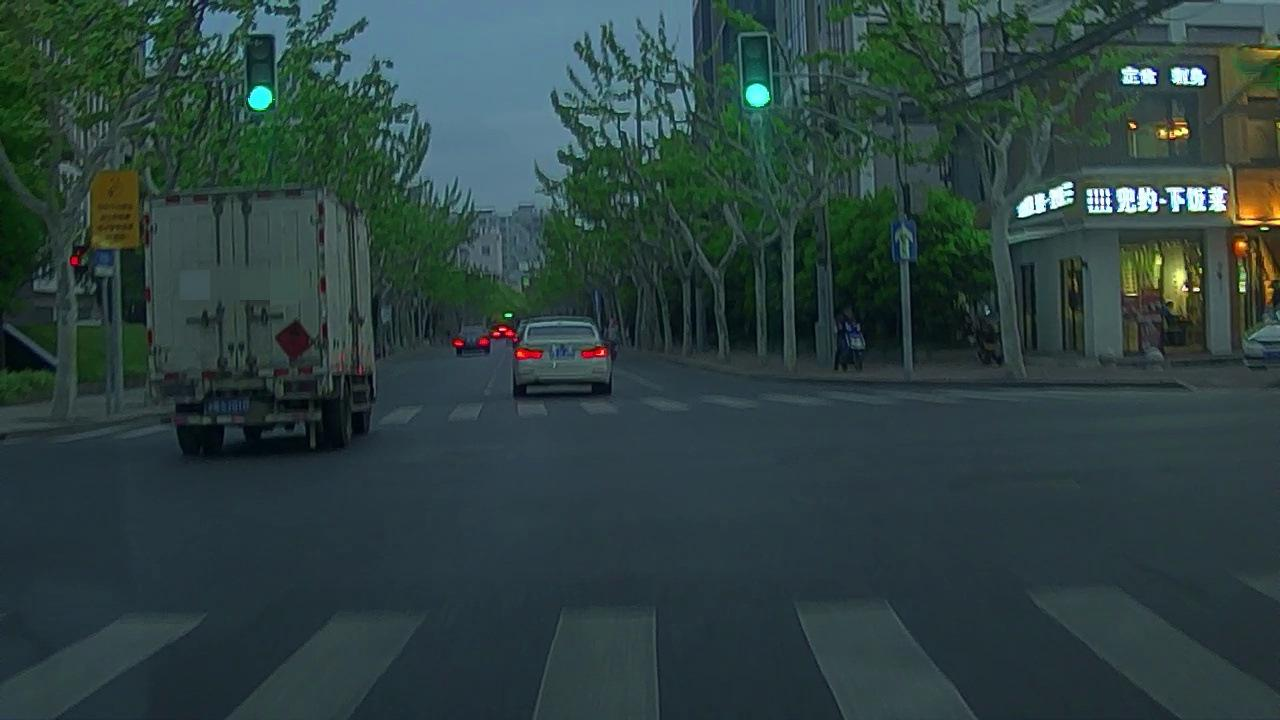traffic_light: (244, 35, 276, 111), (741, 35, 773, 108)
